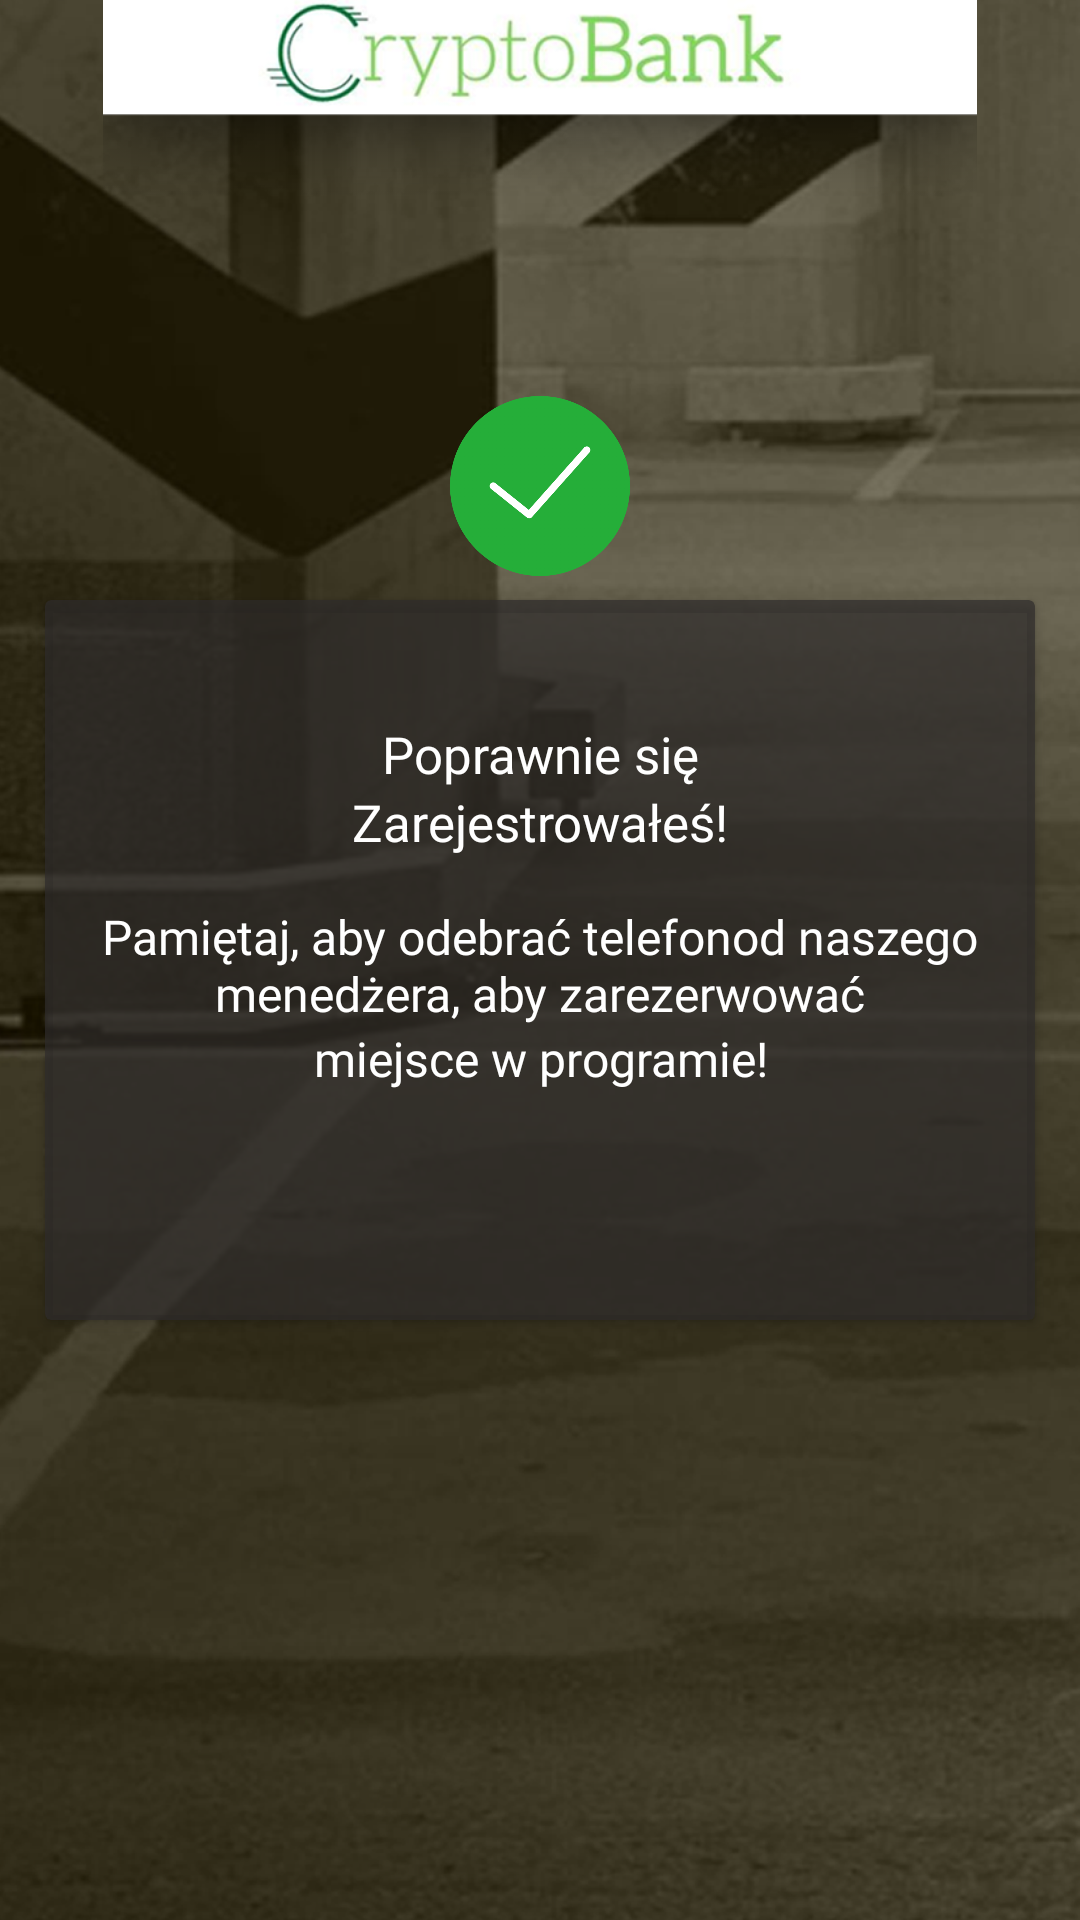

Screen size 1080px x 1920px. Icon name, then its center in pixels as point (x, y):
success: point (540, 486)
